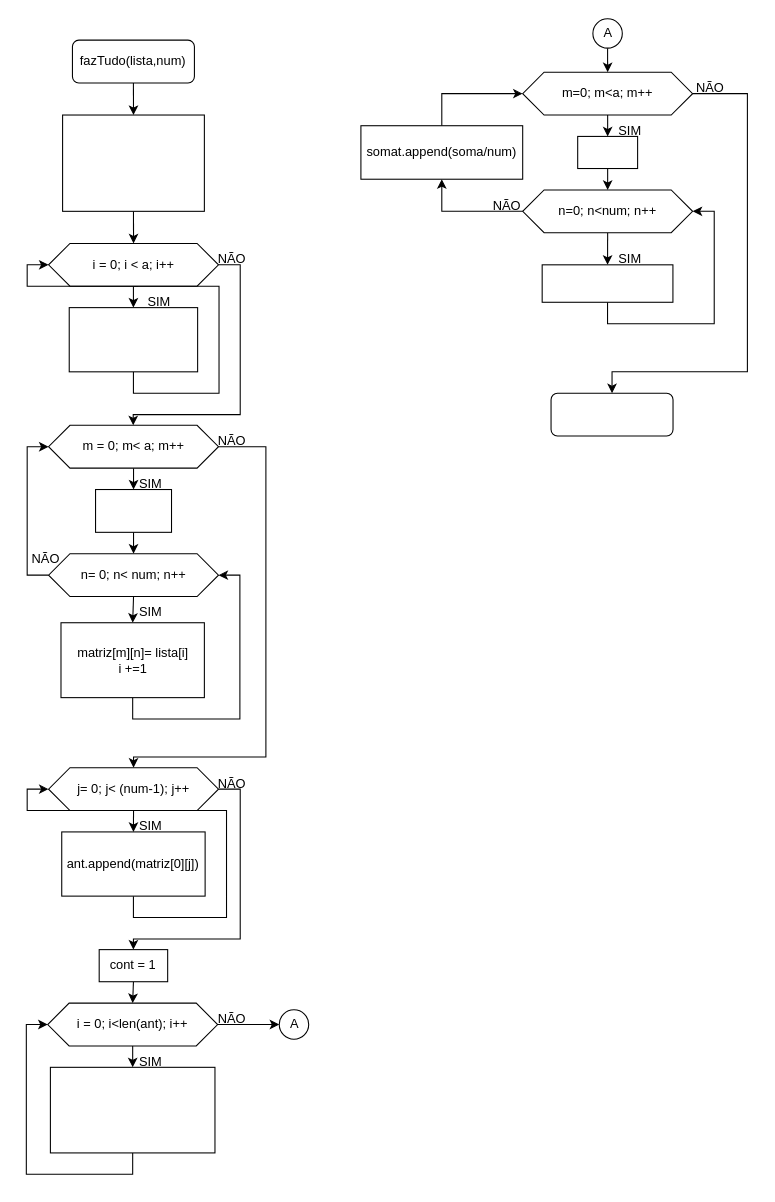
Some shapes in this 775 by 1202 pixel diagram are drawn without their labels. The shapes that lost their labels are listed below. From the top down, each one's centre as x and y in pixels, then its label:
point (133, 162): somat = [] ant = [] tam = len(lista) a = tam+1 - num matriz = [0]*a
point (607, 152): soma = 0
point (607, 283): soma += matriz[m][n]
point (133, 339): matriz[i] = [0]*num
point (611, 414): retornar somat
point (133, 510): i = m
point (132, 1109): sublista = (ant[0:i+1]) soma = sum(sublista) somat.append(soma/cont) cont +=1
